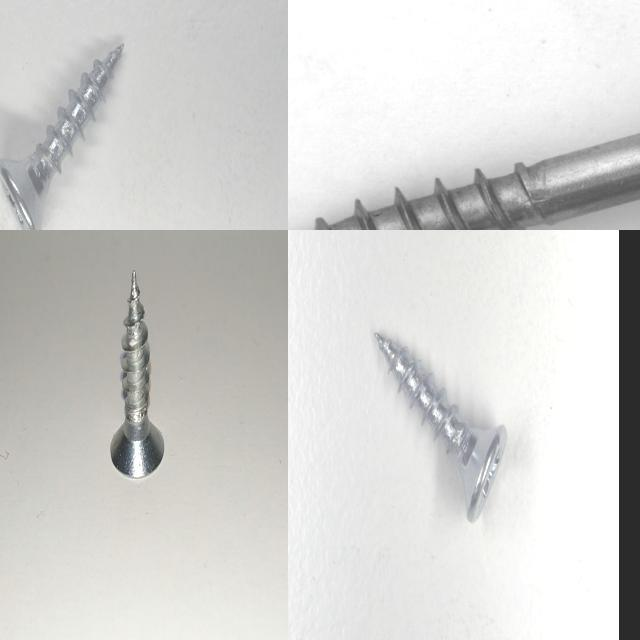Screw: (288, 20, 640, 230), (375, 332, 507, 522), (0, 43, 123, 230), (110, 269, 164, 478)
